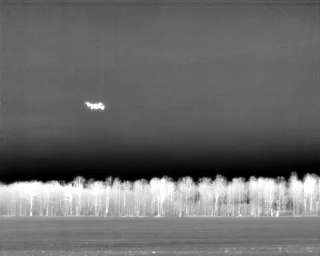DRONE: (81, 97, 109, 115)
